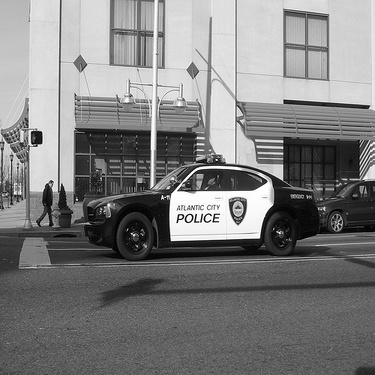car: (72, 157, 324, 260), (313, 174, 371, 235), (2, 188, 12, 200)
